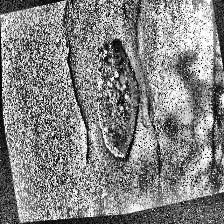pothole: (85, 36, 151, 170)
